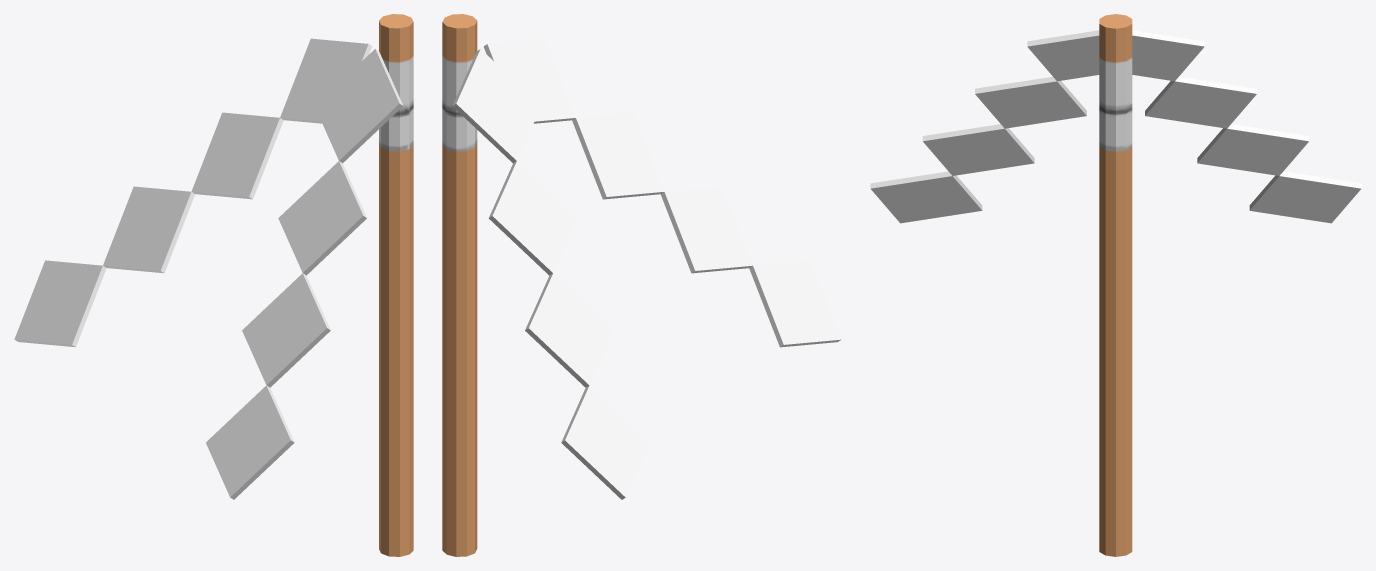
The model's file is oharai1kari.fbx.
The picture shows the model from 3 angles, left to right: view 1: azimuth 30°, elevation 25°; view 2: azimuth 150°, elevation 25°; view 3: azimuth 270°, elevation 25°; orthographic projection.
Visible parts, largest first — view 1: pCube11; view 2: pCube11; view 3: pCube11.
Boxes of the visible parts, bbox=[...] form: pCube11: bbox=[14, 14, 413, 556]; pCube11: bbox=[442, 14, 841, 556]; pCube11: bbox=[870, 14, 1361, 556].
Bounding box in the file's own units: 57.24 × 100 × 84.27.
Materials: 1 (1 with a texture image).
